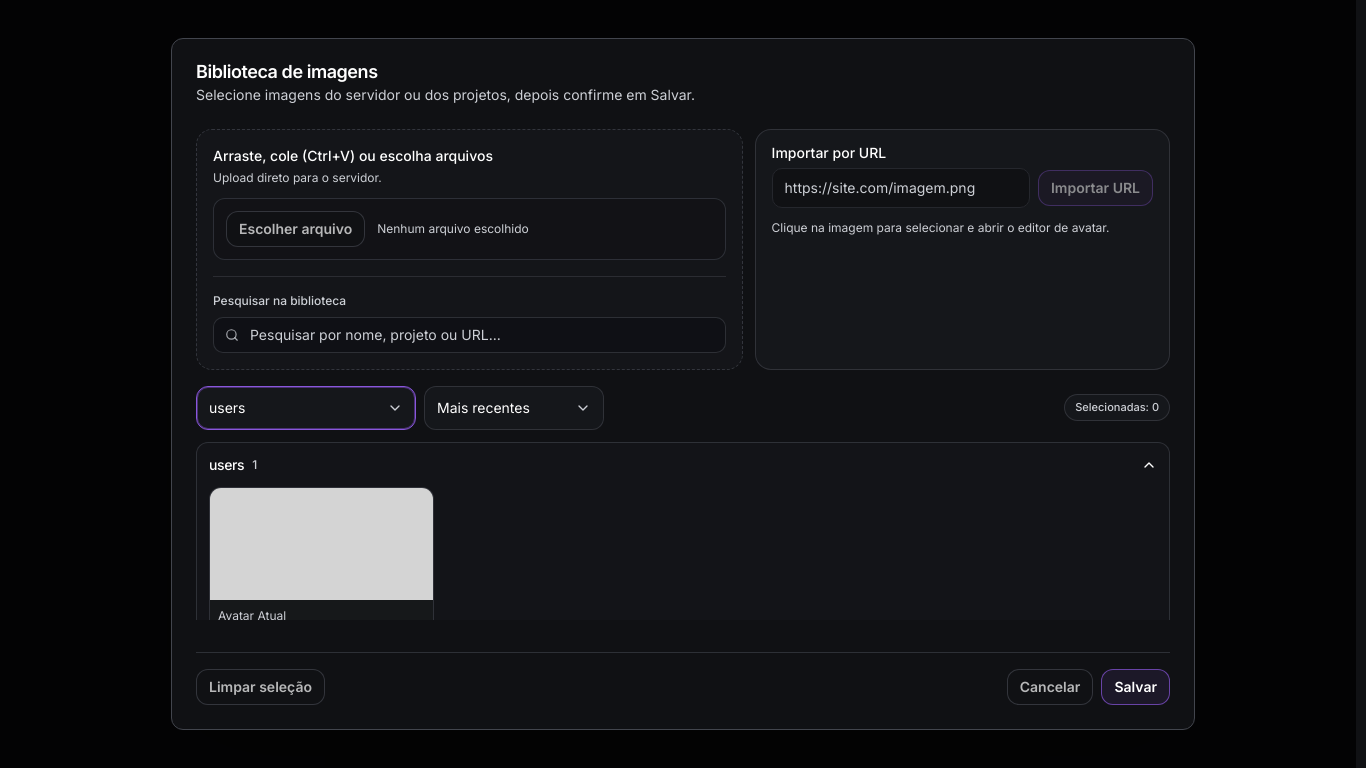
Test: ImageLibraryDialog upload folder focus › carrega apenas os roots explicitamente autorizados no avatar
The image size is (1366, 768).
Press ArrowDown in the dropdown named "Filtrar por pasta", box [196,386,416,430]
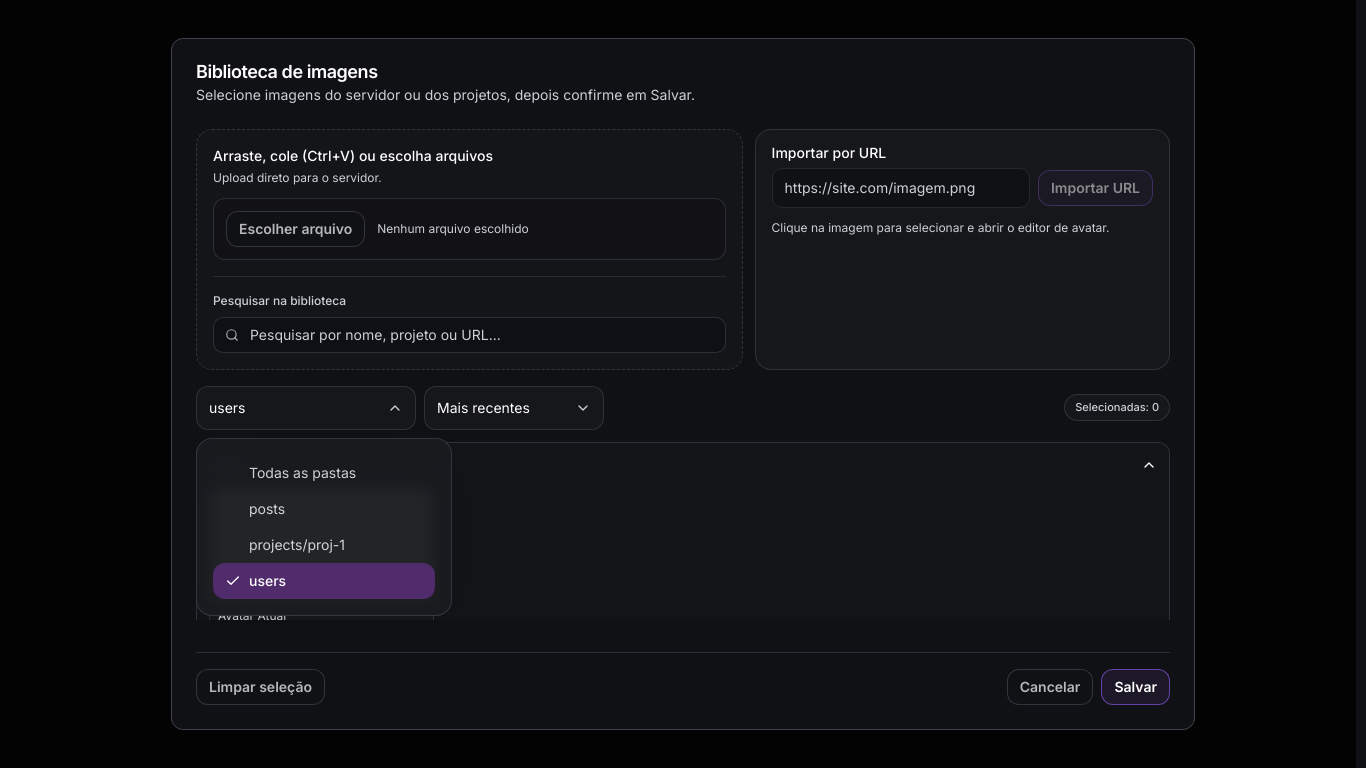
Click the option "Todas as pastas" at (324, 473), box [213,455,435,491]
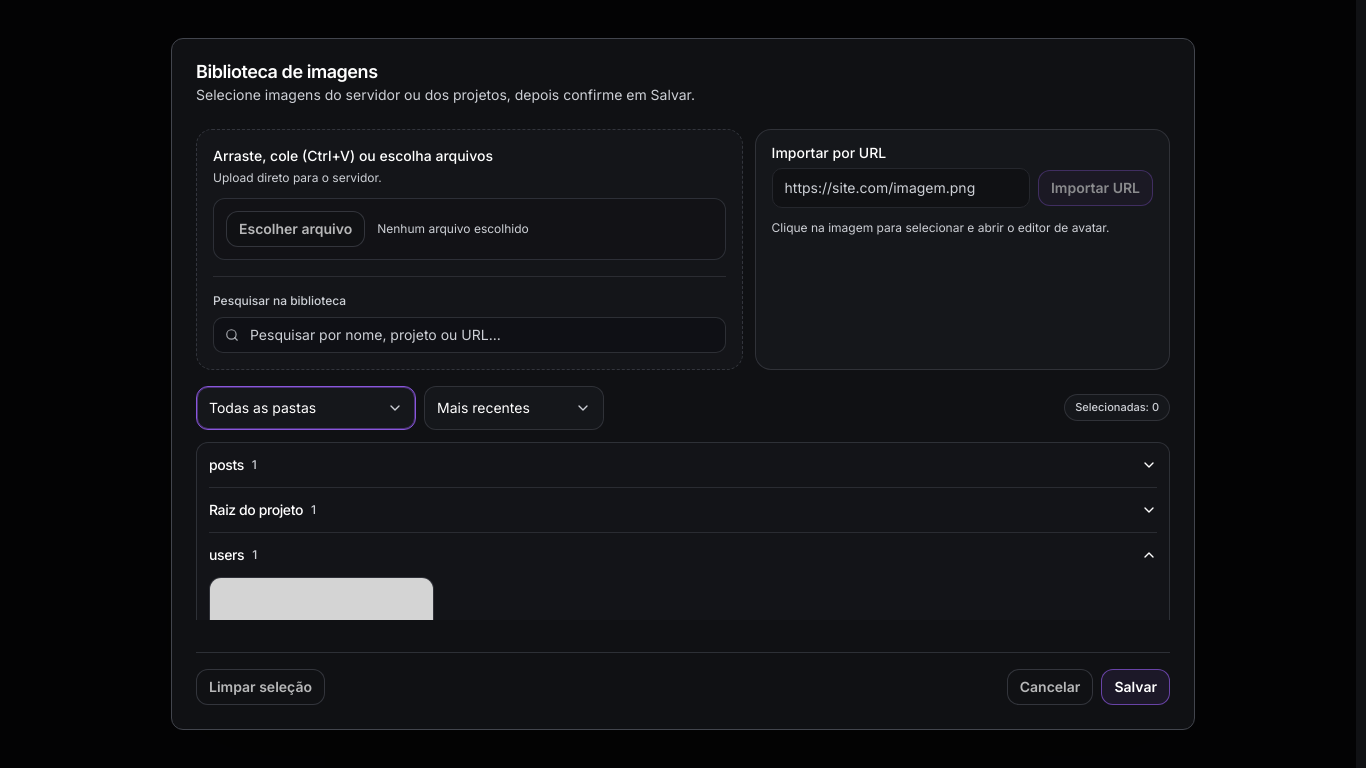
Click the button "posts 1" at (226, 464), box [209,443,1157,487]
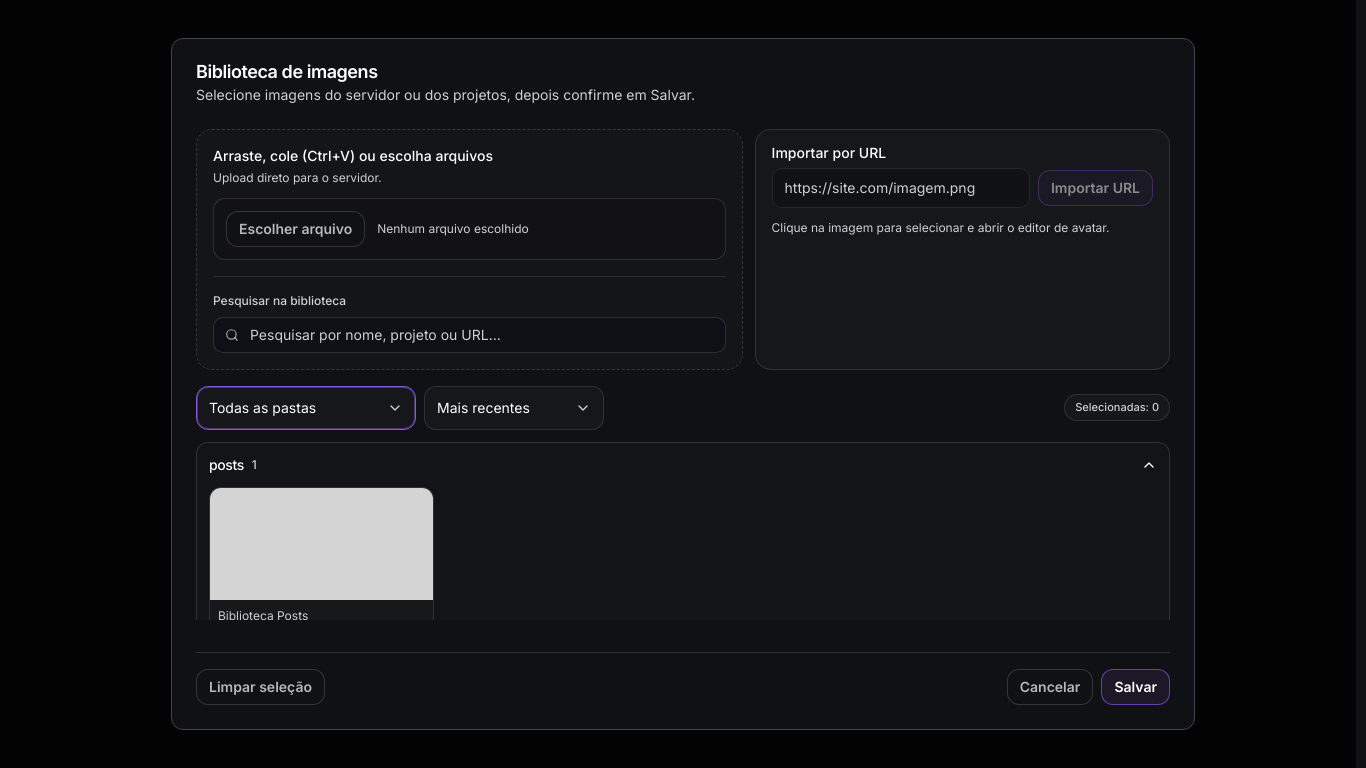
Check: the text "Biblioteca Posts" is shown, box [218,608,308,620]
